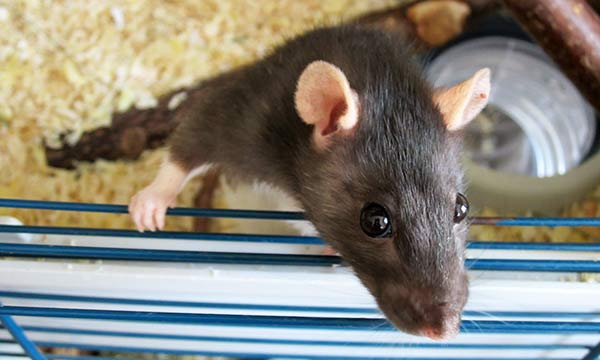rat: (121, 18, 499, 346)
